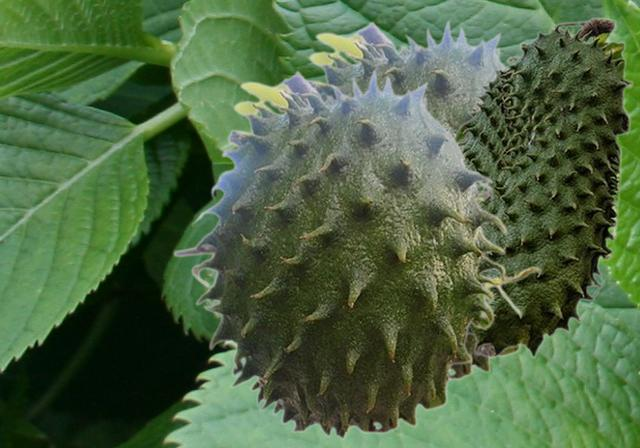guyabano: (172, 66, 540, 440), (305, 17, 523, 381), (453, 16, 632, 358)
